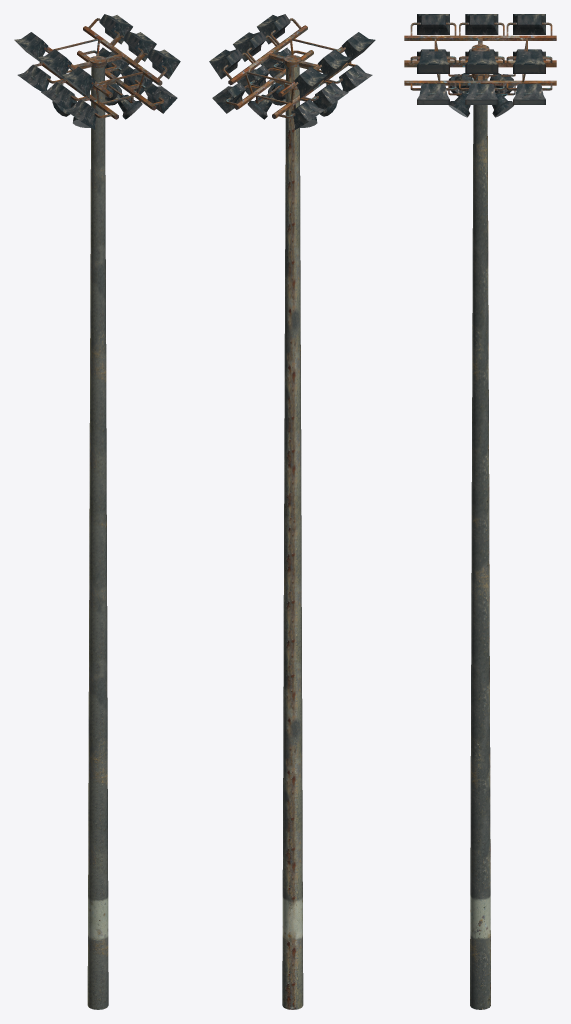
Rendered from floodLight.FBX.
The picture shows the model from 3 angles, left to right: view 1: azimuth 30°, elevation 25°; view 2: azimuth 150°, elevation 25°; view 3: azimuth 270°, elevation 25°; orthographic projection.
Visible parts, largest first — view 1: FloodLight; view 2: FloodLight; view 3: FloodLight.
Part boxes in pixels (bbox=[...]): FloodLight: bbox=[14, 14, 180, 1009]; FloodLight: bbox=[209, 14, 375, 1009]; FloodLight: bbox=[404, 14, 556, 1009].
Bounding box in the file's own units: 1478 × 1870 × 13186.
